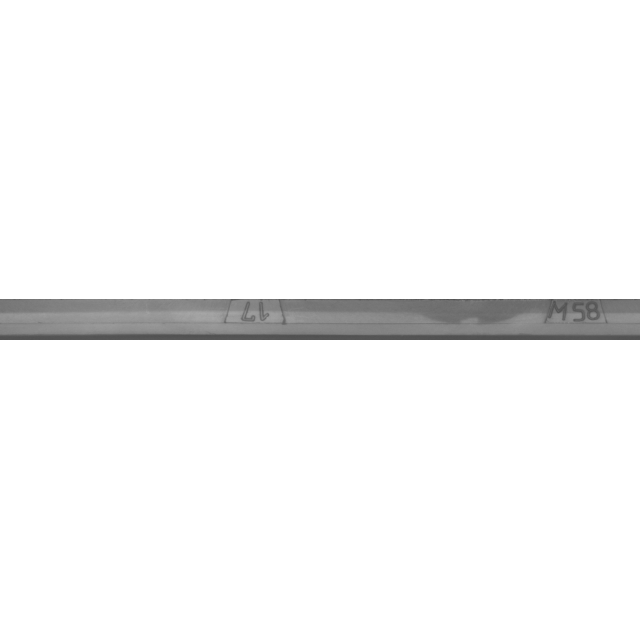mohao: (468, 270, 640, 370)
xuehao: (157, 270, 357, 370)
